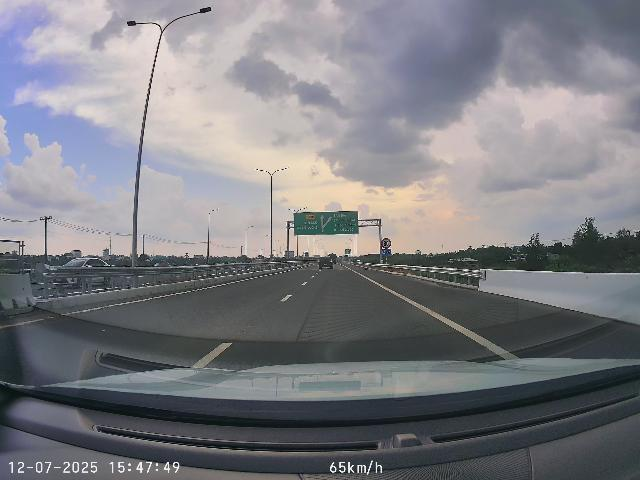127-toc-do-toi-da-80: (381, 238, 392, 249)
